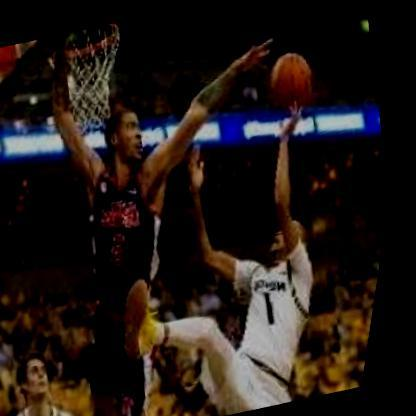basketball: (258, 39, 328, 114)
